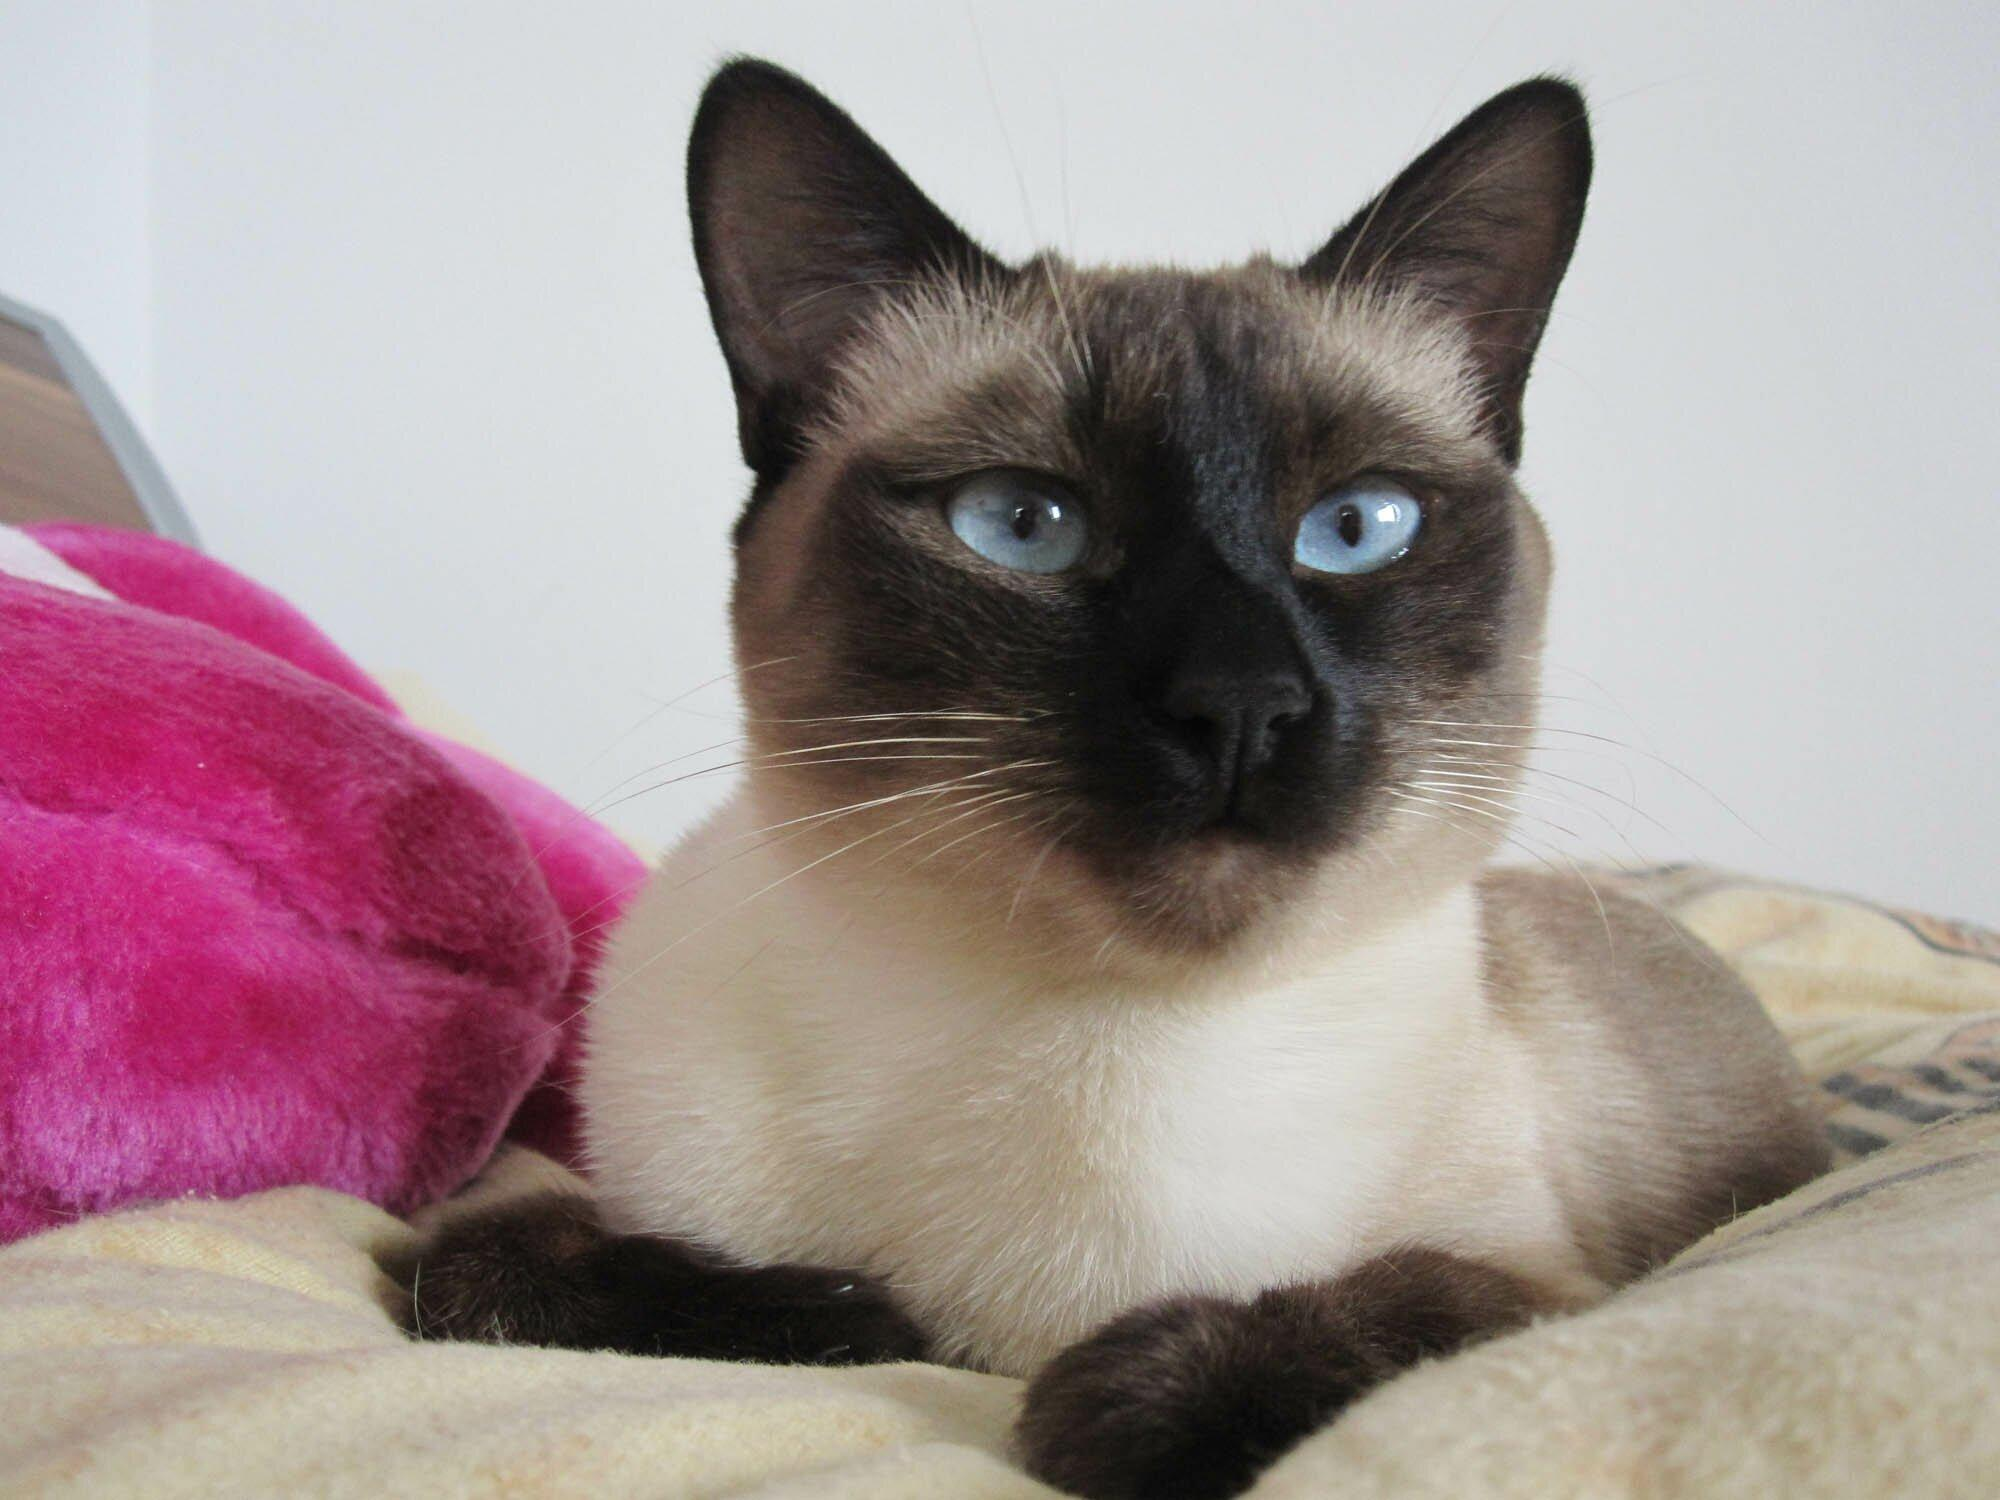siamese: (657, 32, 1641, 991)
